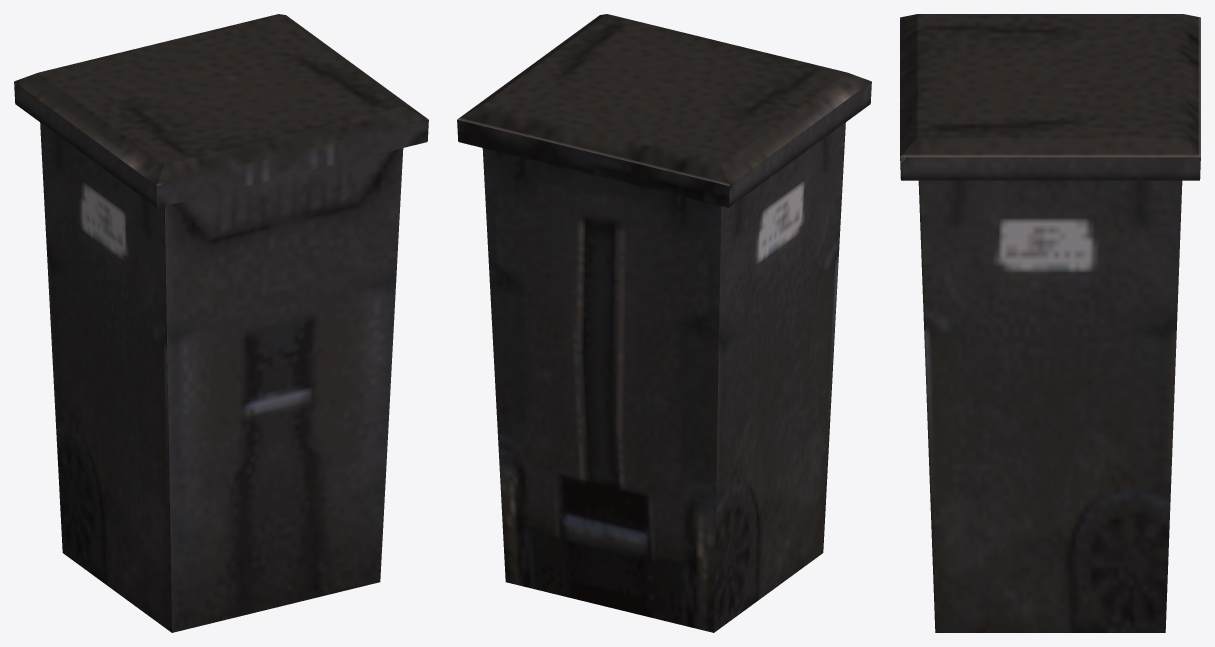
The model's file is trash bin.fbx.
3 views of the same model, side by side, from view 1: azimuth 30°, elevation 25°; view 2: azimuth 150°, elevation 25°; view 3: azimuth 270°, elevation 25° (orthographic). The views are drawn at different scales.
Parts seen in each view (by area): view 1: TrashBin; view 2: TrashBin; view 3: TrashBin.
Part boxes in pixels (bbox=[...]): TrashBin: bbox=[14, 14, 428, 632]; TrashBin: bbox=[457, 14, 871, 632]; TrashBin: bbox=[900, 14, 1200, 632].
Size of the model in its own units: 57.48 by 96.49 by 52.25.
1 material, 1 textured.
